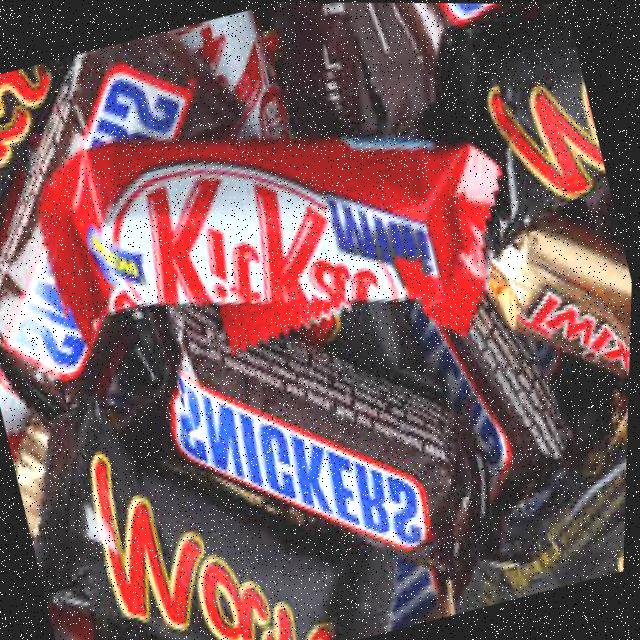kitkat: (29, 62, 536, 430)
